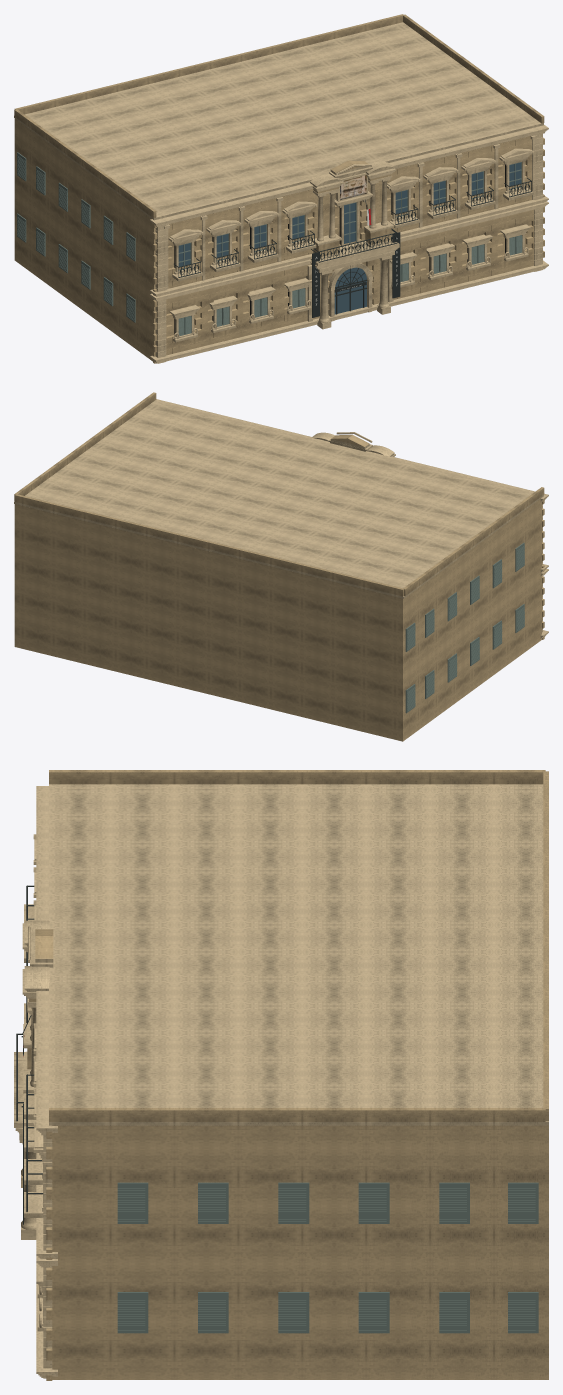
File: museum-BMmTndsO.glb
The picture shows the model from 3 angles, top to bottom: view 1: azimuth 30°, elevation 25°; view 2: azimuth 150°, elevation 25°; view 3: azimuth 270°, elevation 25°; orthographic projection. The views are drawn at different scales.
Parts seen in each view (by area): view 1: Museum | Carved limestone, Museum | Limestone | photographic grain, Museum | Weathered grey green shutters, Museum | Black wrought iron, Museum | Dark reflective glazing, Photo-referenced heraldic relief face, Museum | Recess shadow; view 2: Museum | Limestone | photographic grain, Museum | Carved limestone, Museum | Weathered grey green shutters; view 3: Museum | Carved limestone, Museum | Limestone | photographic grain, Museum | Weathered grey green shutters, Museum | Black wrought iron.
Part boxes in pixels (left/top/right/bottom): Museum | Carved limestone: left=14, top=22, right=548, bottom=363; Museum | Limestone | photographic grain: left=14, top=14, right=544, bottom=363; Museum | Weathered grey green shutters: left=17, top=152, right=522, bottom=335; Museum | Black wrought iron: left=174, top=177, right=531, bottom=317; Museum | Dark reflective glazing: left=178, top=162, right=520, bottom=314; Photo-referenced heraldic relief face: left=340, top=175, right=366, bottom=200; Museum | Recess shadow: left=174, top=165, right=505, bottom=333; Museum | Limestone | photographic grain: left=14, top=392, right=544, bottom=741; Museum | Carved limestone: left=14, top=399, right=548, bottom=638; Museum | Weathered grey green shutters: left=405, top=542, right=524, bottom=713; Museum | Carved limestone: left=14, top=784, right=548, bottom=1378; Museum | Limestone | photographic grain: left=27, top=770, right=548, bottom=1380; Museum | Weathered grey green shutters: left=117, top=1182, right=538, bottom=1333; Museum | Black wrought iron: left=16, top=885, right=43, bottom=1224.
Bounding box in the file's own units: 34.22 × 12.95 × 22.62.
Materials: 9 (3 with a texture image).
